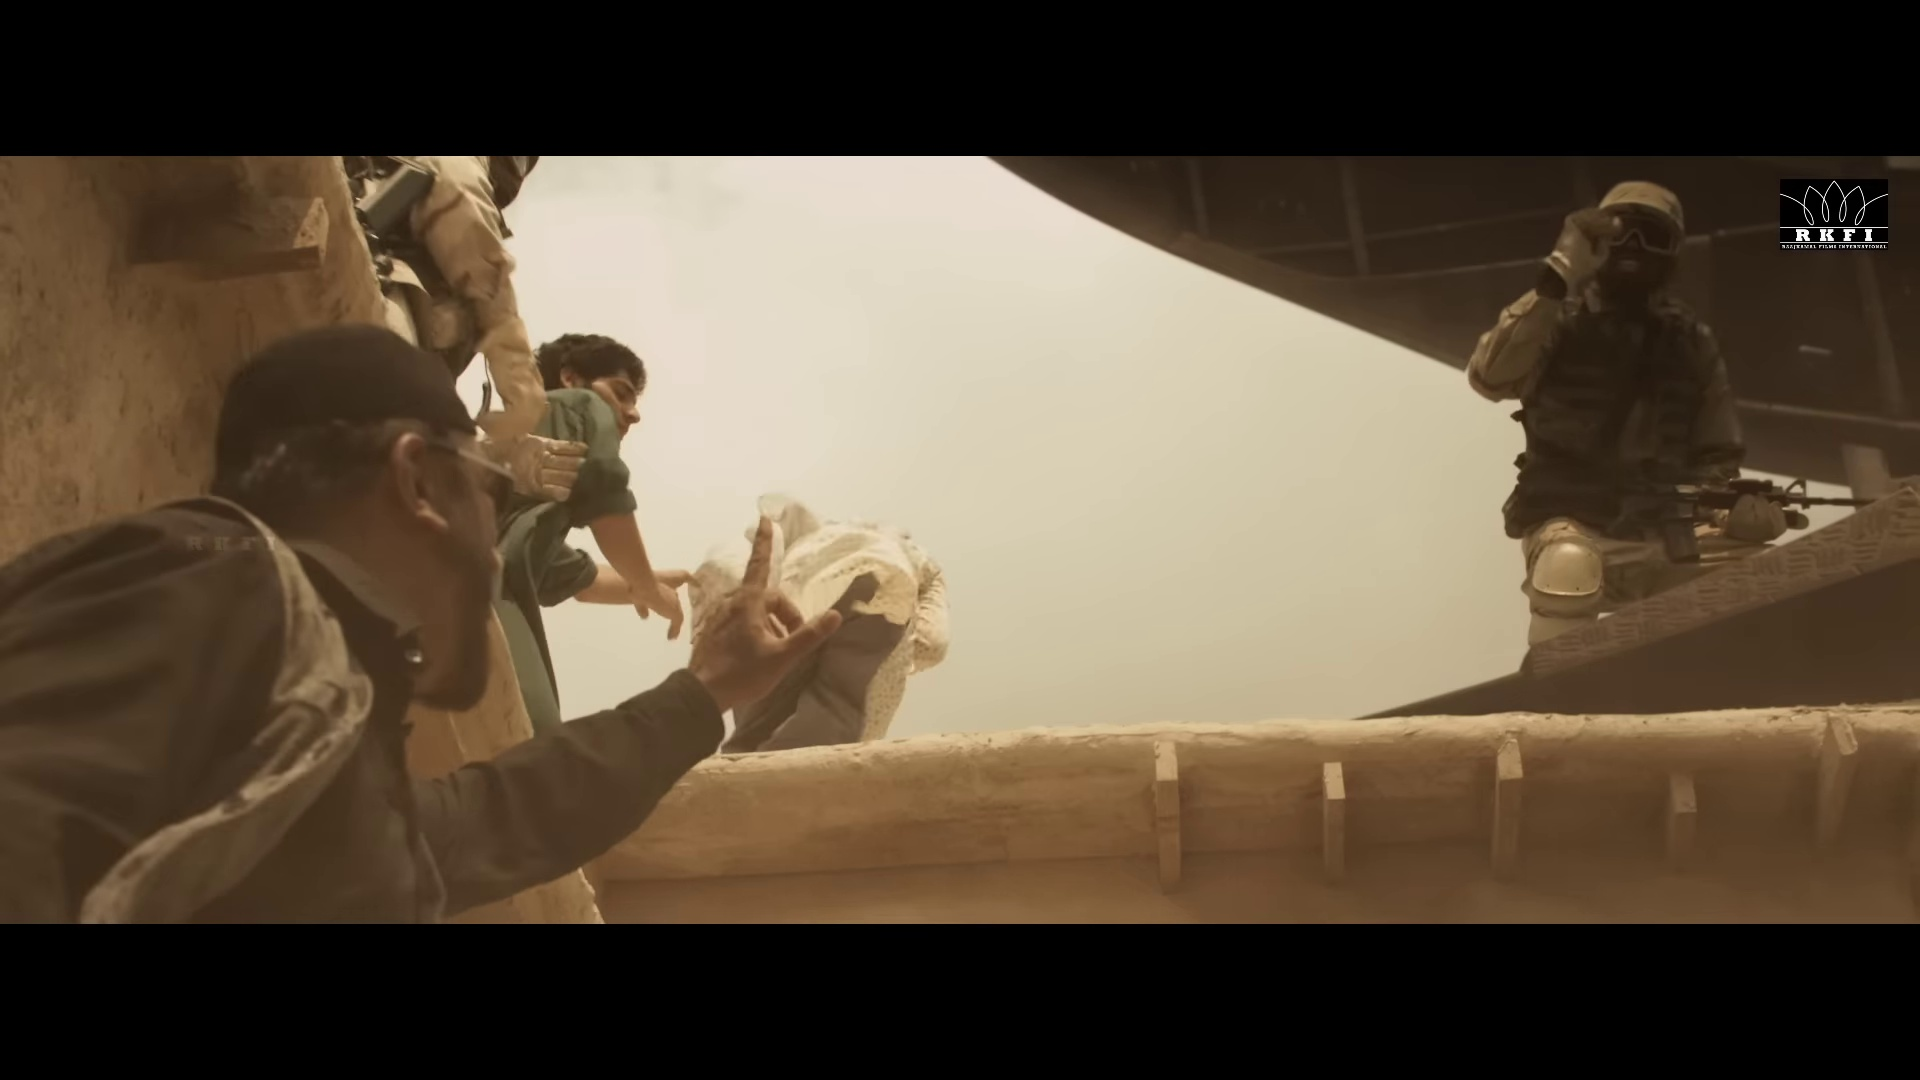gun: (1506, 446, 1883, 570)
p_w_gun: (1465, 179, 1888, 657)
p_wo_gun_not_carrying_normal_pose: (0, 323, 851, 922), (460, 334, 700, 728)
